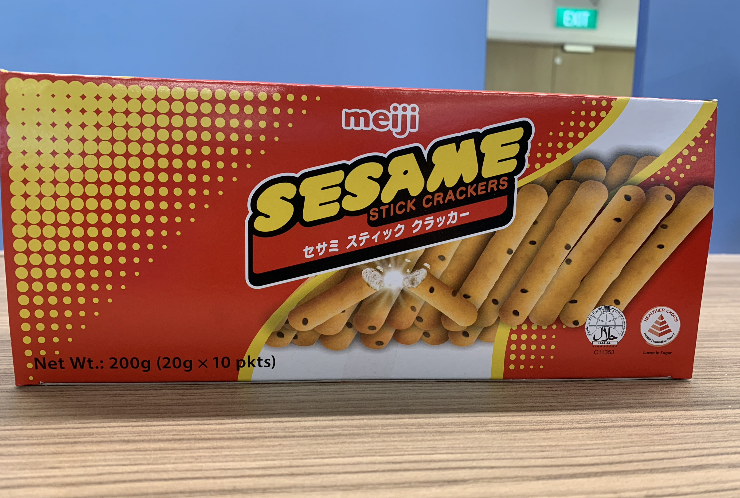crackers_200g-299g: (36, 101, 688, 376)
